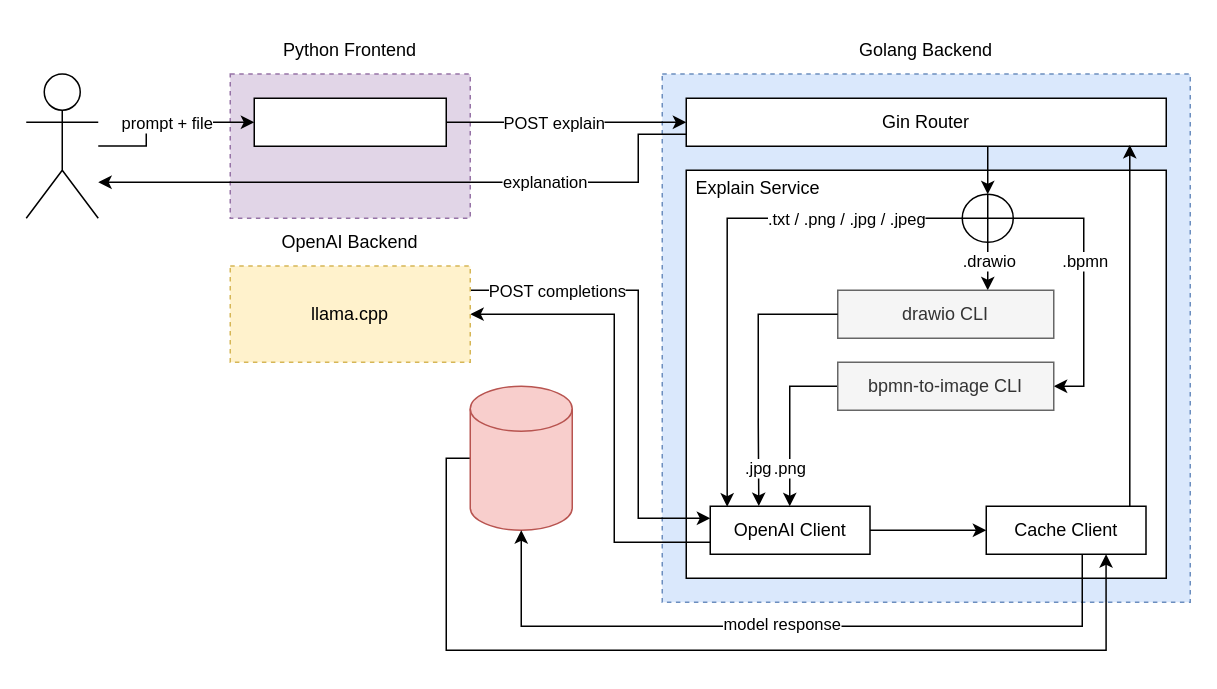
This 1217x689 diagram has some shape labels left out. The centre of each missing label's shape, as x and y in pixels:
binarize data: point 349,121
Redis: point 520,457
User: point 61,145
